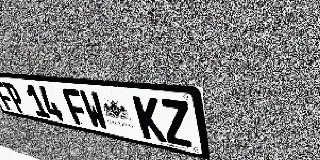1: (22, 84, 51, 119)
4: (36, 85, 65, 122)
F: (61, 88, 92, 127), (0, 81, 18, 112)
K: (132, 95, 167, 143)
P: (2, 82, 29, 114)
W: (78, 90, 110, 131)
Z: (158, 98, 194, 148)
